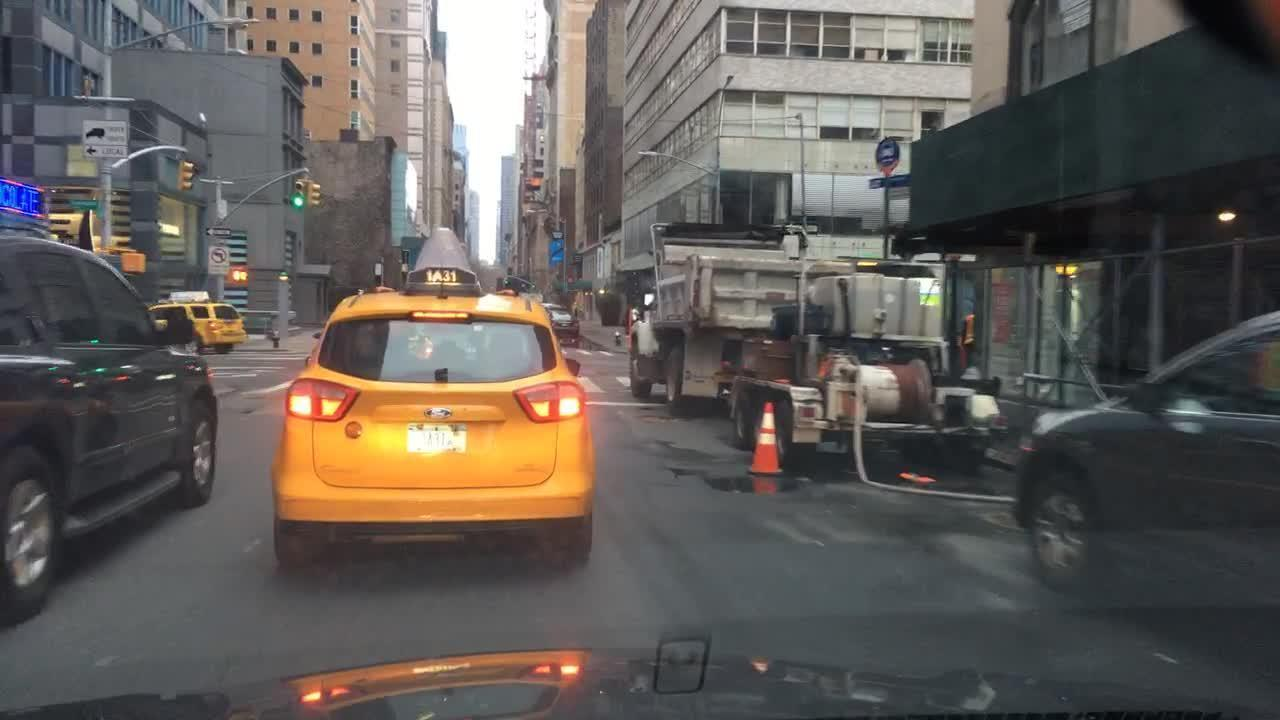ford: (423, 403, 460, 426)
